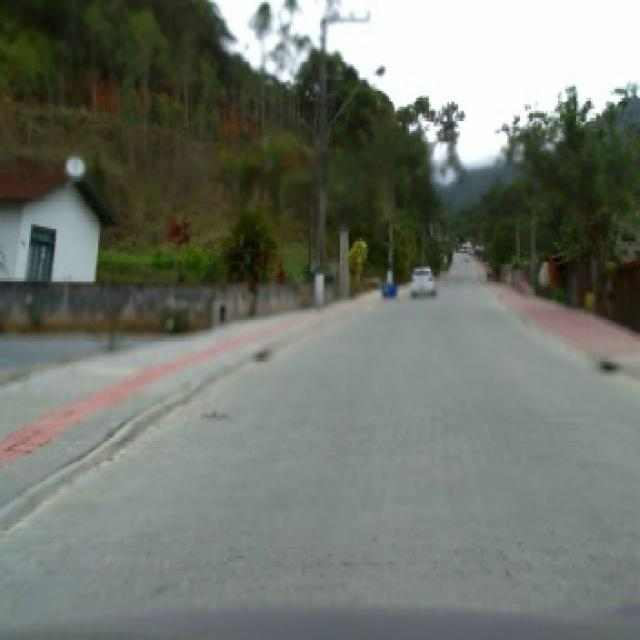Poth-hole: (602, 356, 624, 372), (256, 344, 271, 360)
